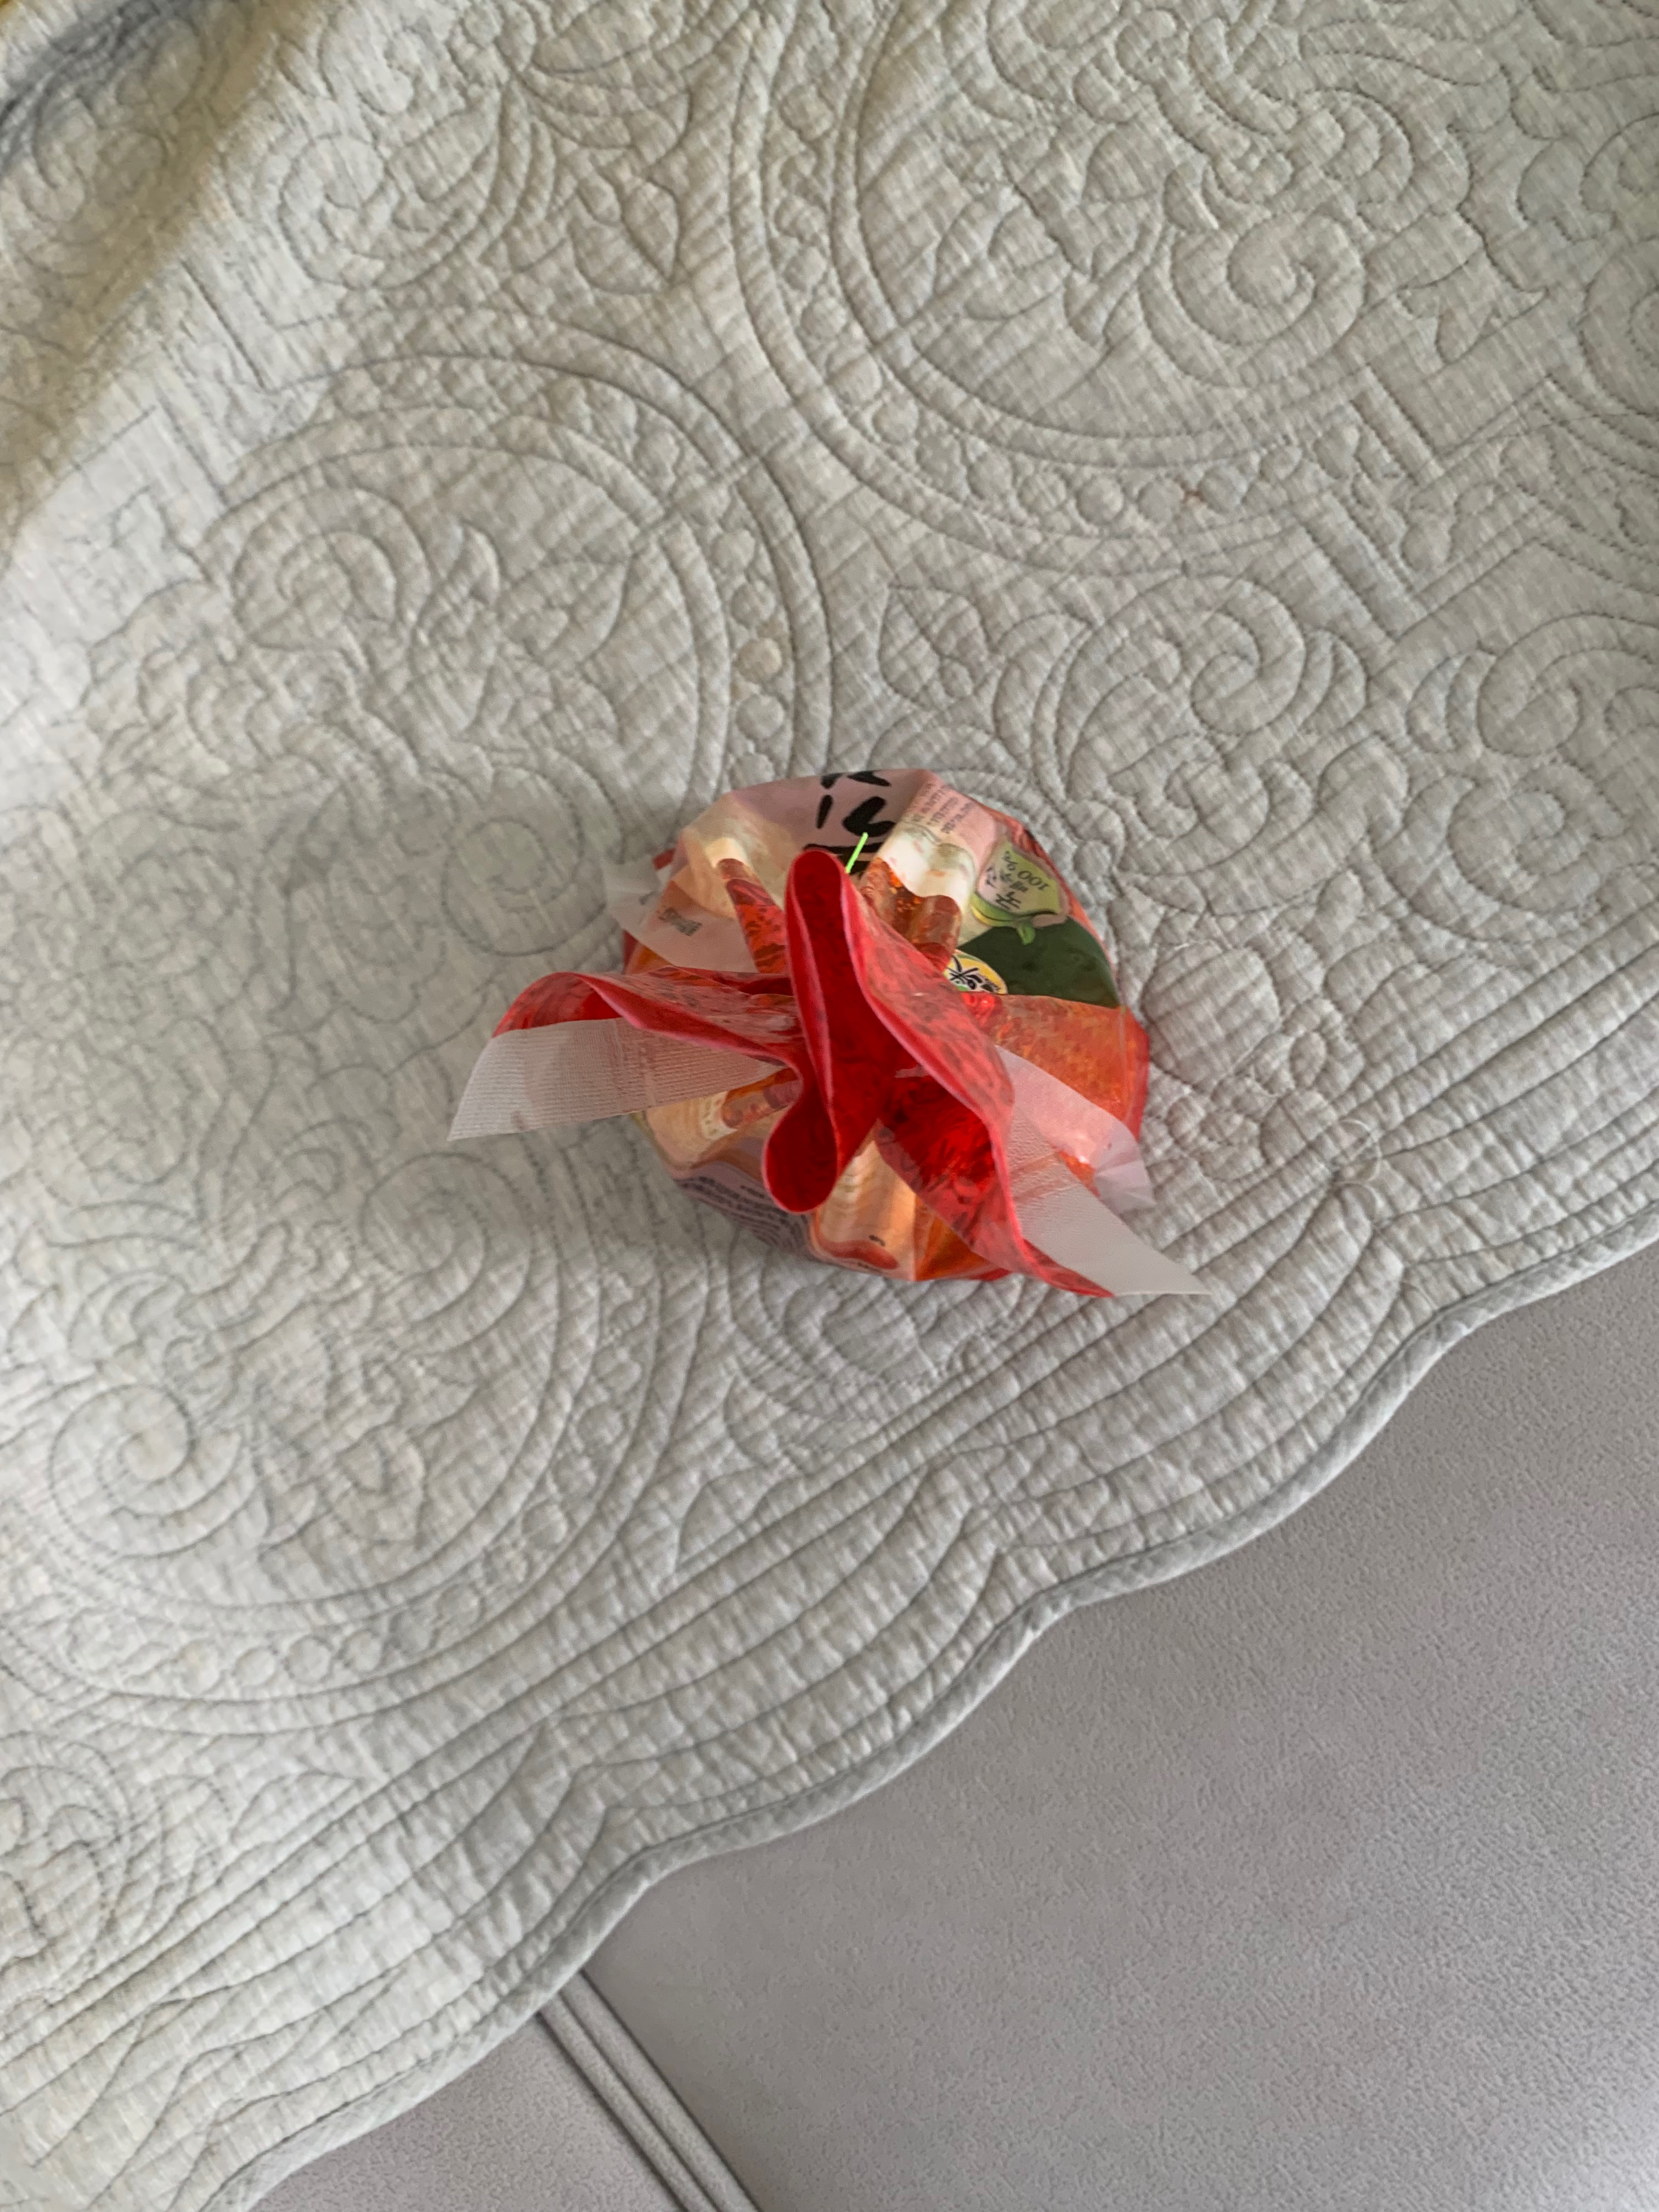kimchi: (627, 773, 1148, 1282)
